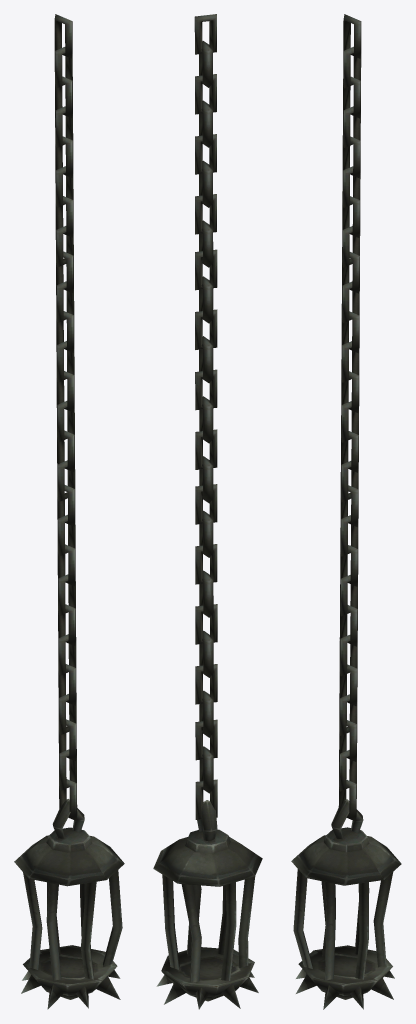
File: Dxlm_xiaotielong.FBX
The picture shows the model from 3 angles, left to right: view 1: azimuth 90°, elevation 25°; view 2: azimuth 150°, elevation 25°; view 3: azimuth 270°, elevation 25°; orthographic projection.
Parts seen in each view (by area): view 1: Dxlm_xiaotielong; view 2: Dxlm_xiaotielong; view 3: Dxlm_xiaotielong.
Boxes of the visible parts, x1,y1,x2,y2 form: Dxlm_xiaotielong: (14, 14, 124, 1009); Dxlm_xiaotielong: (153, 14, 262, 1009); Dxlm_xiaotielong: (291, 14, 401, 1009).
Bounding box in the file's own units: 41.28 × 41.3 × 404.
